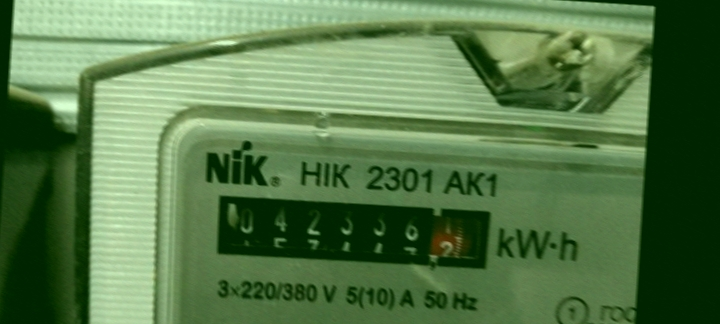0: (237, 203, 255, 232)
1: (440, 210, 454, 233)
2: (305, 204, 323, 234), (437, 236, 454, 255)
3: (369, 205, 387, 236), (337, 205, 354, 234)
4: (271, 201, 290, 231)
6: (403, 209, 422, 240)
screen: (203, 178, 504, 278)
